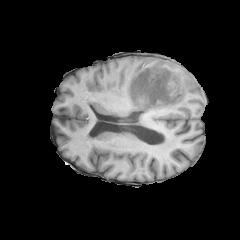glioma: (111, 59, 195, 111)
